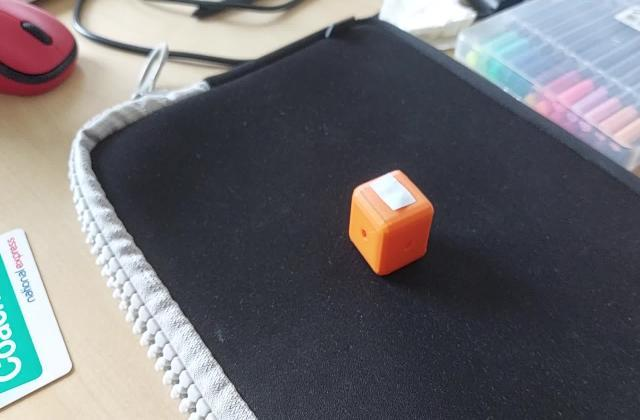sticker: (346, 172, 438, 278)
white: (371, 183, 417, 213)
